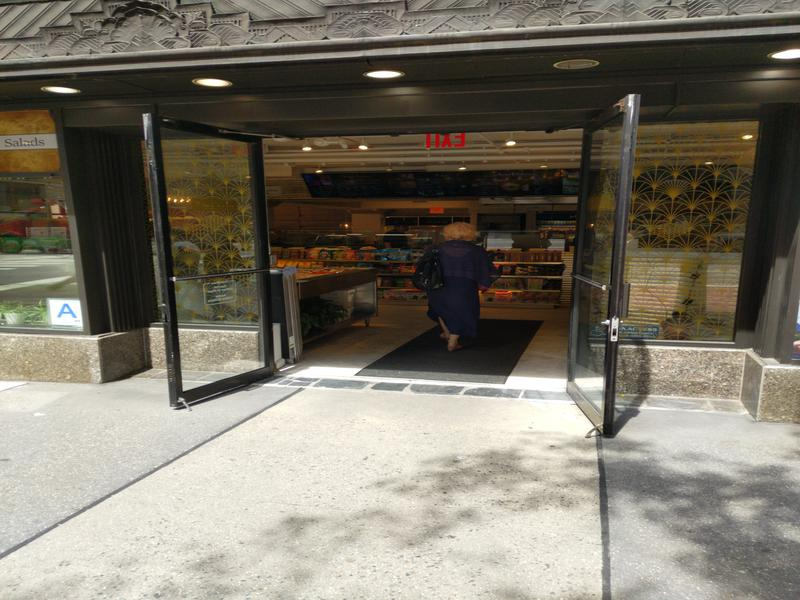door: (140, 103, 277, 410), (567, 87, 631, 446)
